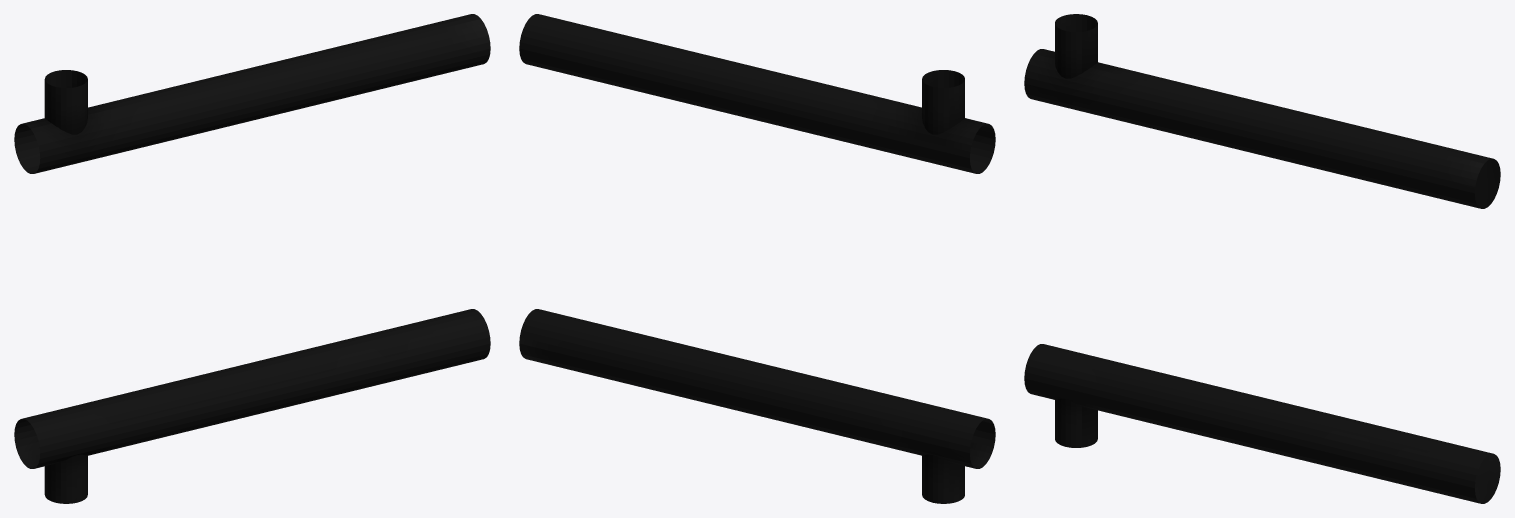
The model's file is mst110cr-vessel_cylinder.dae.
The picture shows the model from 3 angles, left to right: view 1: azimuth 30°, elevation 25°; view 2: azimuth 150°, elevation 25°; view 3: azimuth 330°, elevation 25°; orthographic projection.
Visible parts, largest first — view 1: node; view 2: node; view 3: node.
Boxes of the visible parts, left/top/right/bottom form: node: left=14, top=14, right=490, bottom=503; node: left=519, top=14, right=995, bottom=503; node: left=1024, top=14, right=1500, bottom=503.
Size of the model in its own units: 1.09 by 0.9587 by 0.1082.
1 material, 1 textured.
